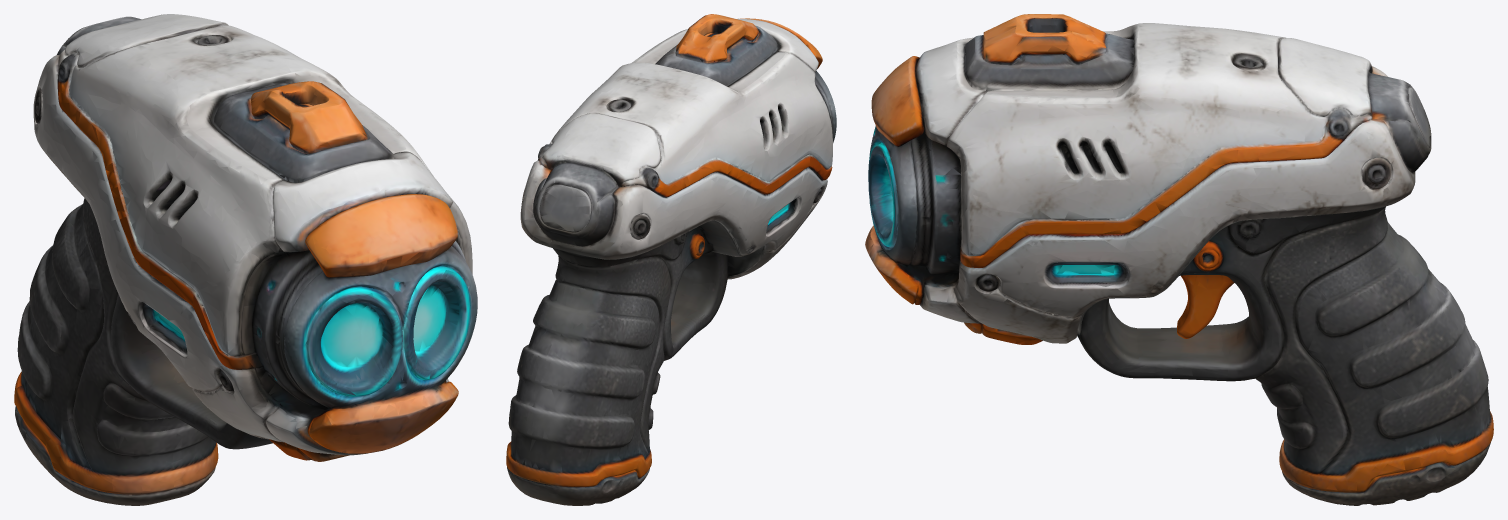
The model's file is tripo_convert_0fdf6f42-5900-40c5-8ca7-722bd9741664.fbx.
The picture shows the model from 3 angles, left to right: view 1: azimuth 30°, elevation 25°; view 2: azimuth 150°, elevation 25°; view 3: azimuth 270°, elevation 25°; orthographic projection. The views are drawn at different scales.
Parts seen in each view (by area): view 1: Pistola; view 2: Pistola; view 3: Pistola.
Boxes of the visible parts, left/top/right/bottom form: Pistola: left=14, top=14, right=477, bottom=505; Pistola: left=506, top=14, right=836, bottom=505; Pistola: left=865, top=14, right=1493, bottom=505.
Size of the model in its own units: 0.1695 by 0.3335 by 0.4165.
